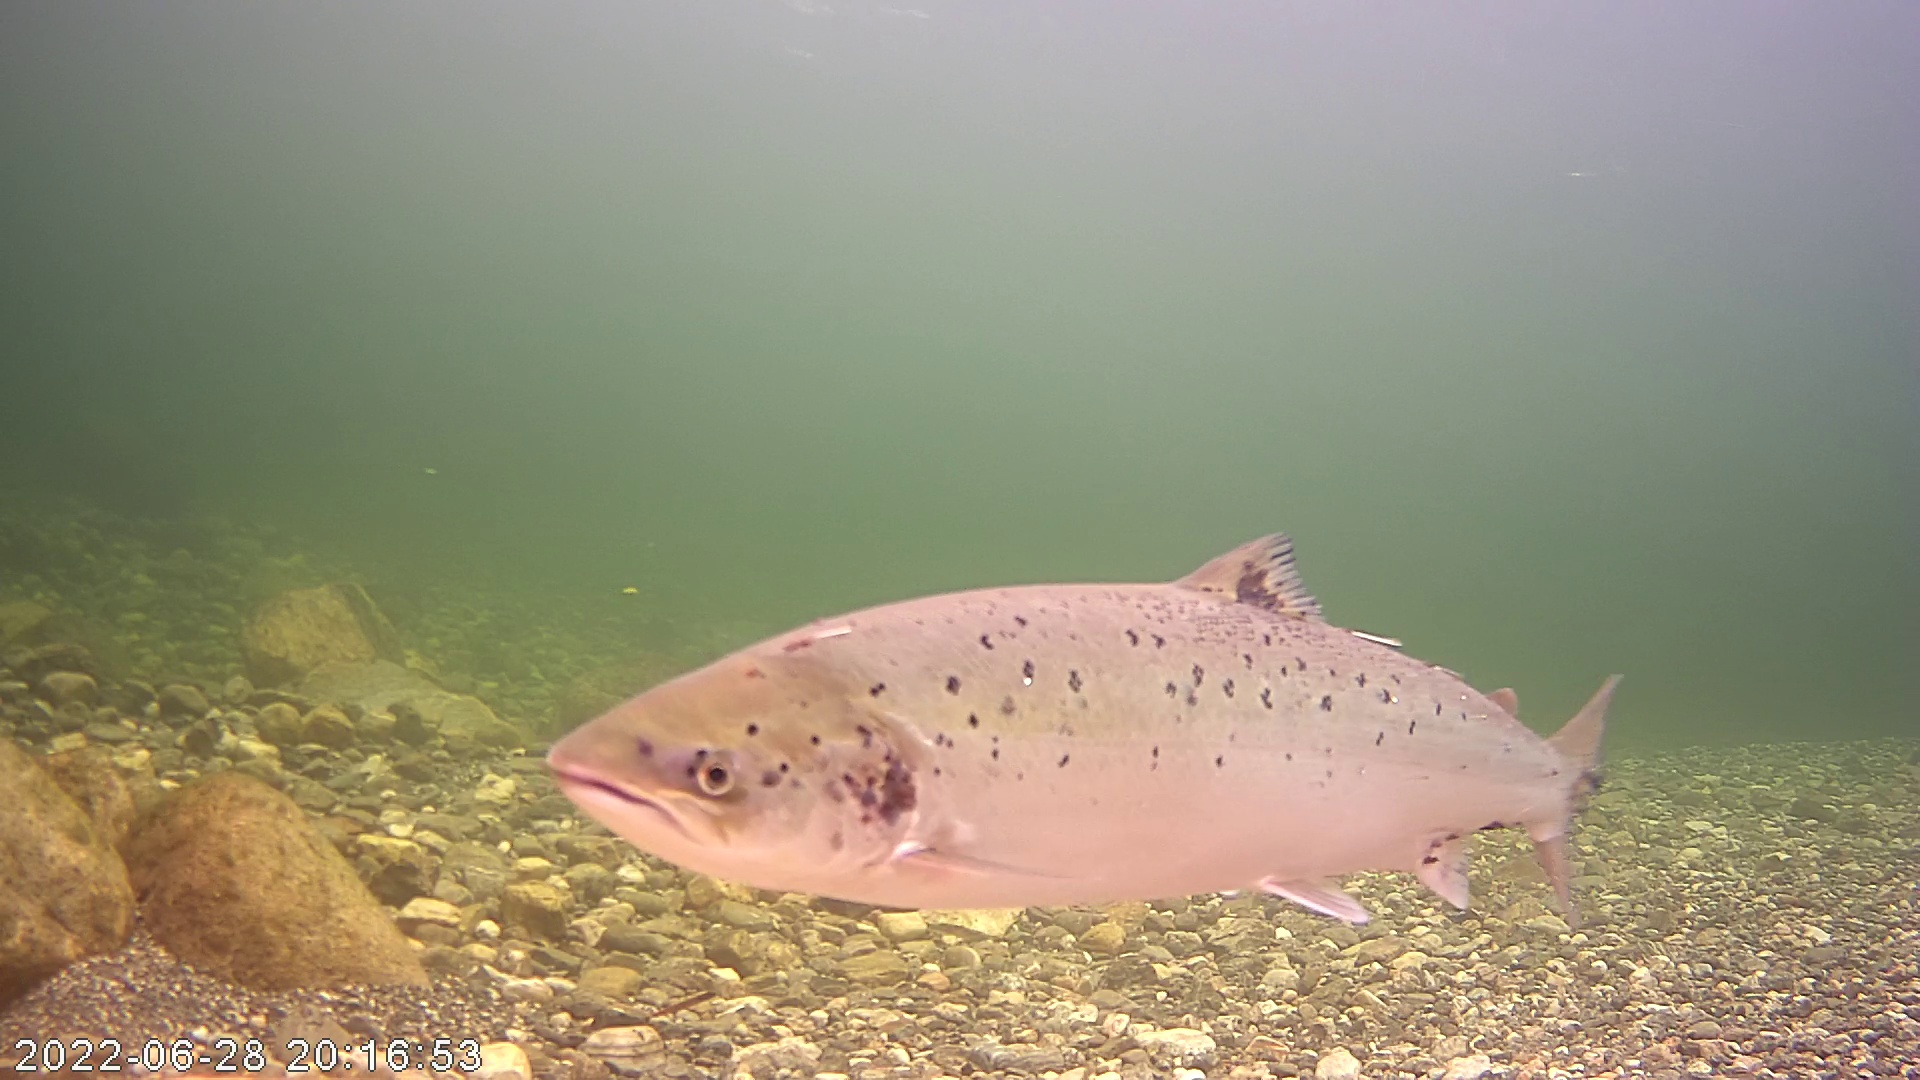salmon: (531, 512, 1633, 928)
